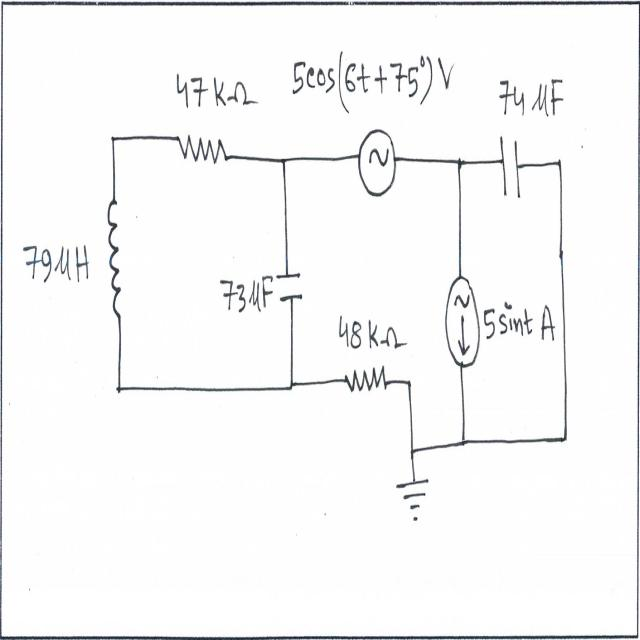ac_current: (354, 123, 399, 200)
capacitor: (496, 130, 524, 204), (274, 262, 308, 314)
current_source: (443, 274, 484, 371)
ground: (394, 475, 435, 535)
inductor: (106, 188, 124, 328)
resistor: (171, 125, 232, 172), (336, 357, 392, 406)
